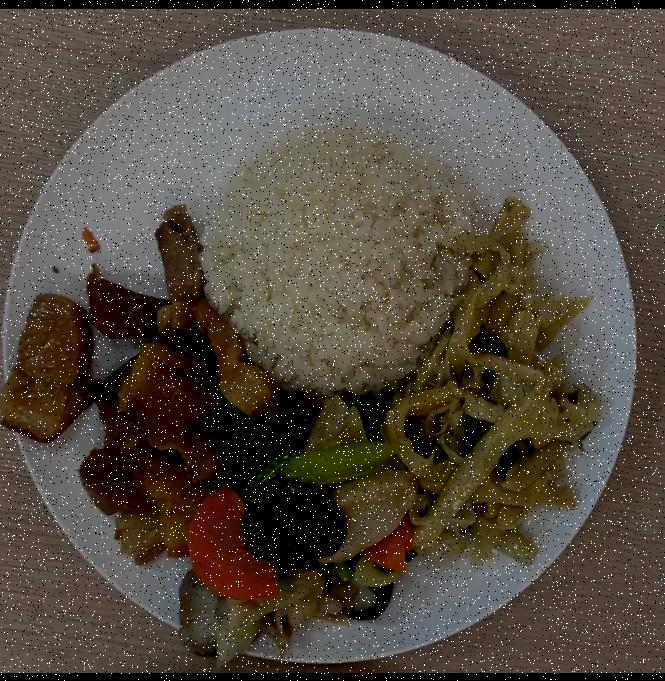big fried chicken leg: (0, 19, 625, 659)
big herbal chicken leg: (202, 132, 484, 405)
braised fish fillet: (392, 193, 596, 571), (178, 405, 411, 646)
braised pork: (0, 210, 261, 565)
